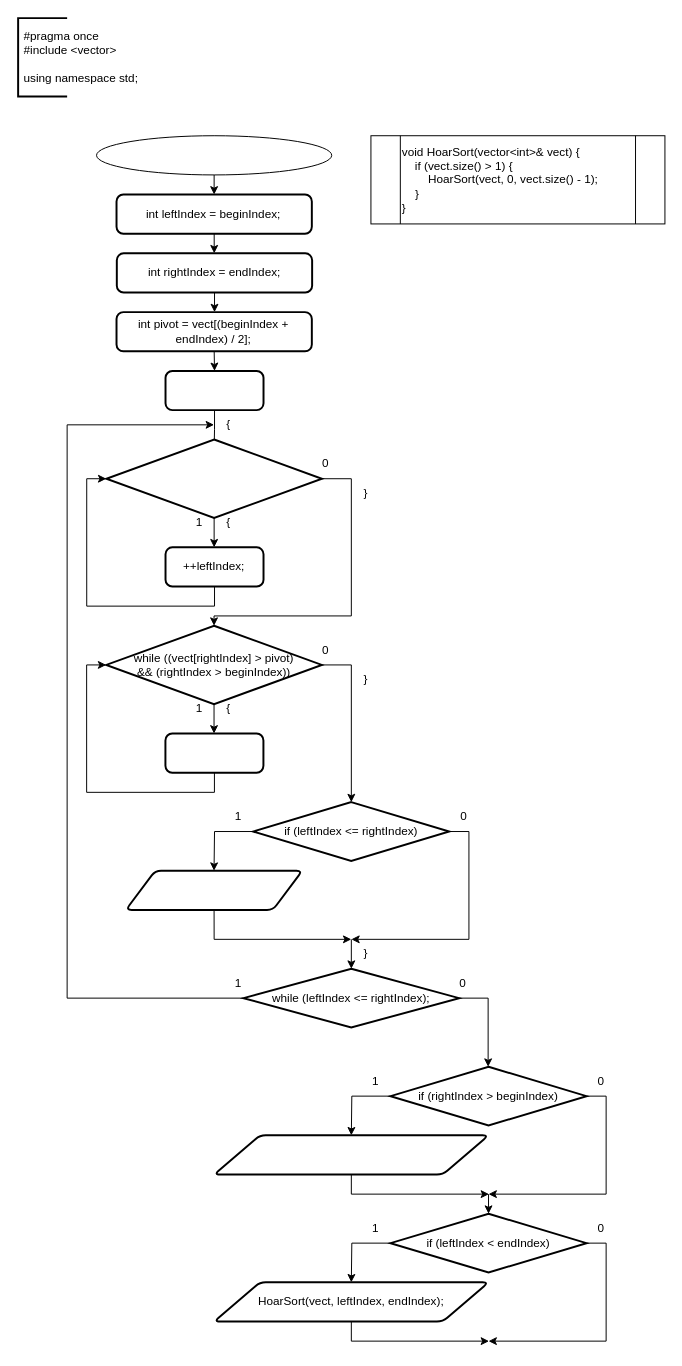
Some shapes in this 682 by 1366 pixel diagram are drawn without their labels. Here are the shapes that lost their labels. From the top down, the box of each, then its label:
(96, 135, 332, 175): void HoarSort(vector<int>& vect, int beginIndex, int endIndex)
(164, 369, 264, 411): do
(105, 438, 322, 518): while ((vect[leftIndex] < pivot) && (leftIndex < endIndex))
(164, 732, 264, 773): --rightIndex;
(124, 869, 303, 910): swap(vect[leftIndex++], vect[rightIndex--]);
(213, 1134, 489, 1175): HoarSort(vect, beginIndex, rightIndex);
